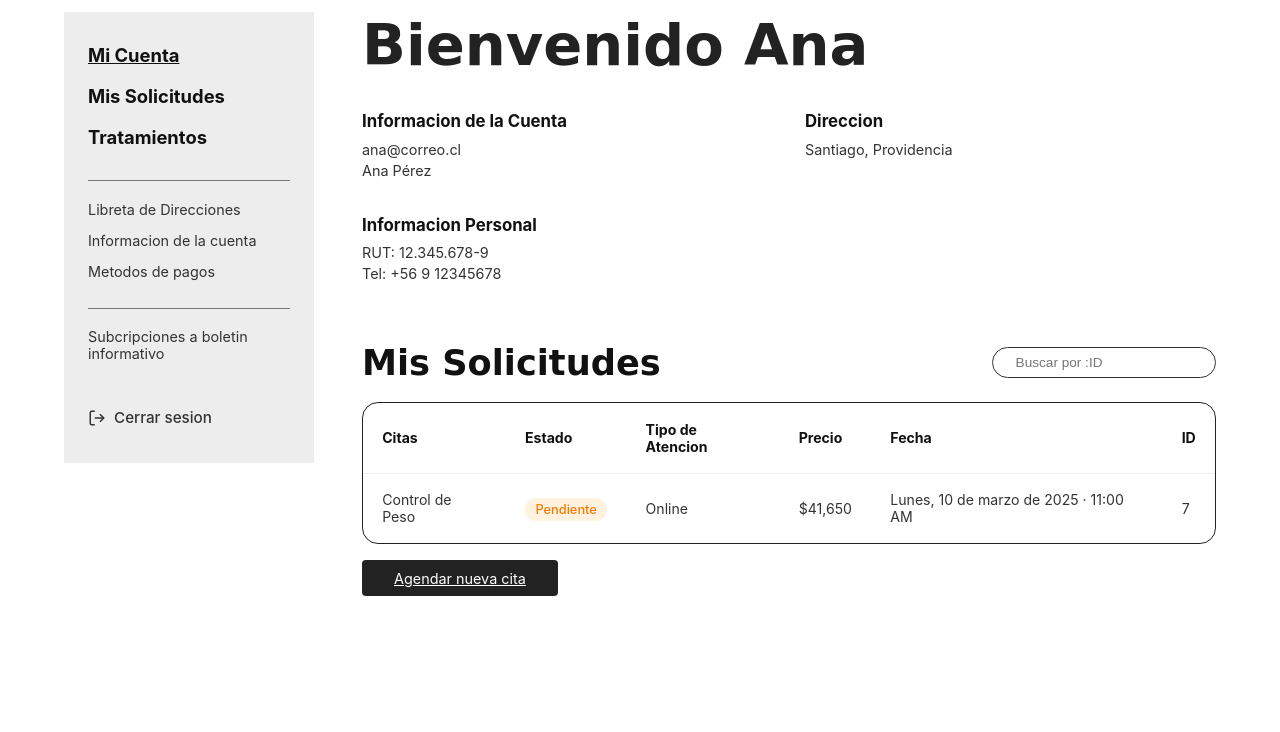
Test: Perfil › lista las citas del paciente y permite buscar por ID
This screenshot has width=1280, height=732.
Expected: the text "Control de Peso" is shown, x1=363 y1=473 x2=506 y2=543
Expected: the text "Pendiente" is shown, x1=525 y1=498 x2=607 y2=521
Type "99" into the field with placeholder "Buscar por :ID" at (1104, 363), box x1=992 y1=347 x2=1216 y2=378
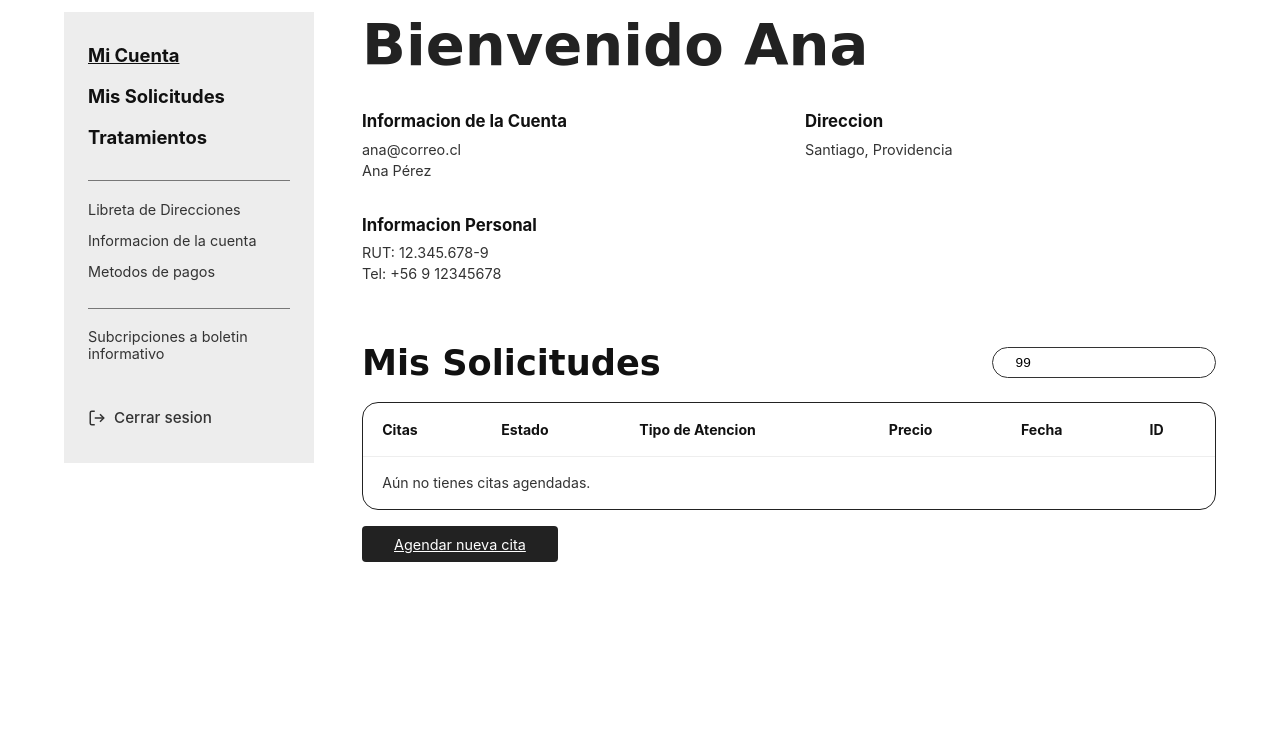
Expected: the text "Aún no tienes citas agendadas." is shown, x1=363 y1=456 x2=1215 y2=509
